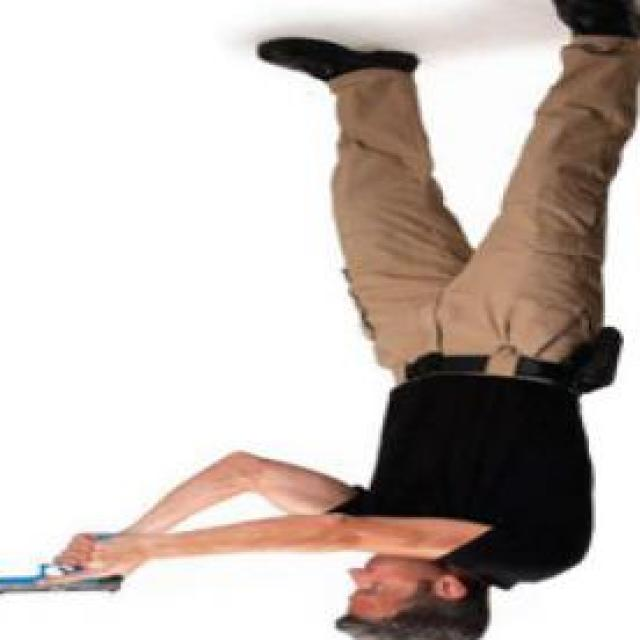pistol: (0, 531, 123, 594)
